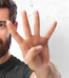right: (5, 8, 59, 72)
